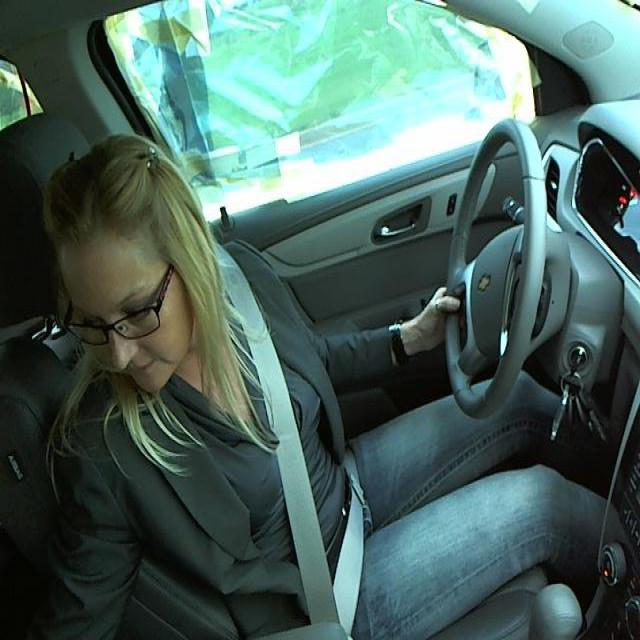seatbelt: (229, 294, 379, 630)
